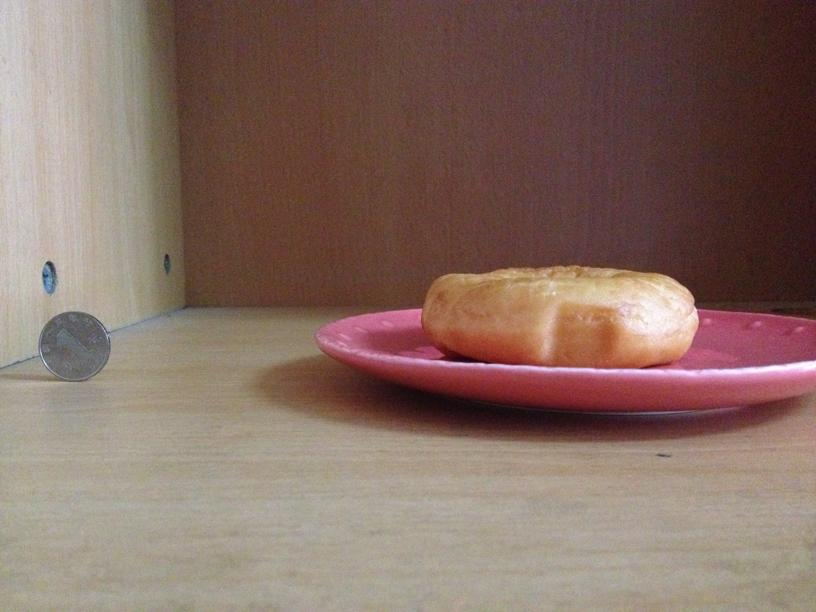coin: (36, 310, 110, 381)
doughnut: (427, 263, 698, 363)
